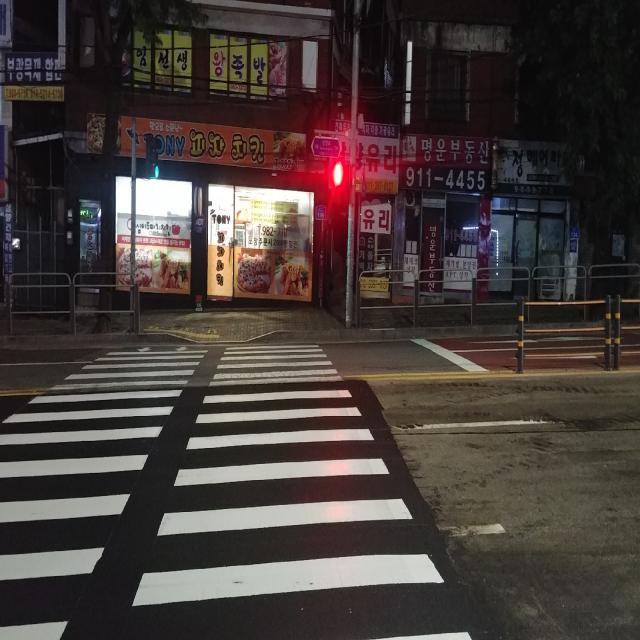빨간불: (329, 160, 347, 189)
횡단보도: (0, 345, 473, 639)
